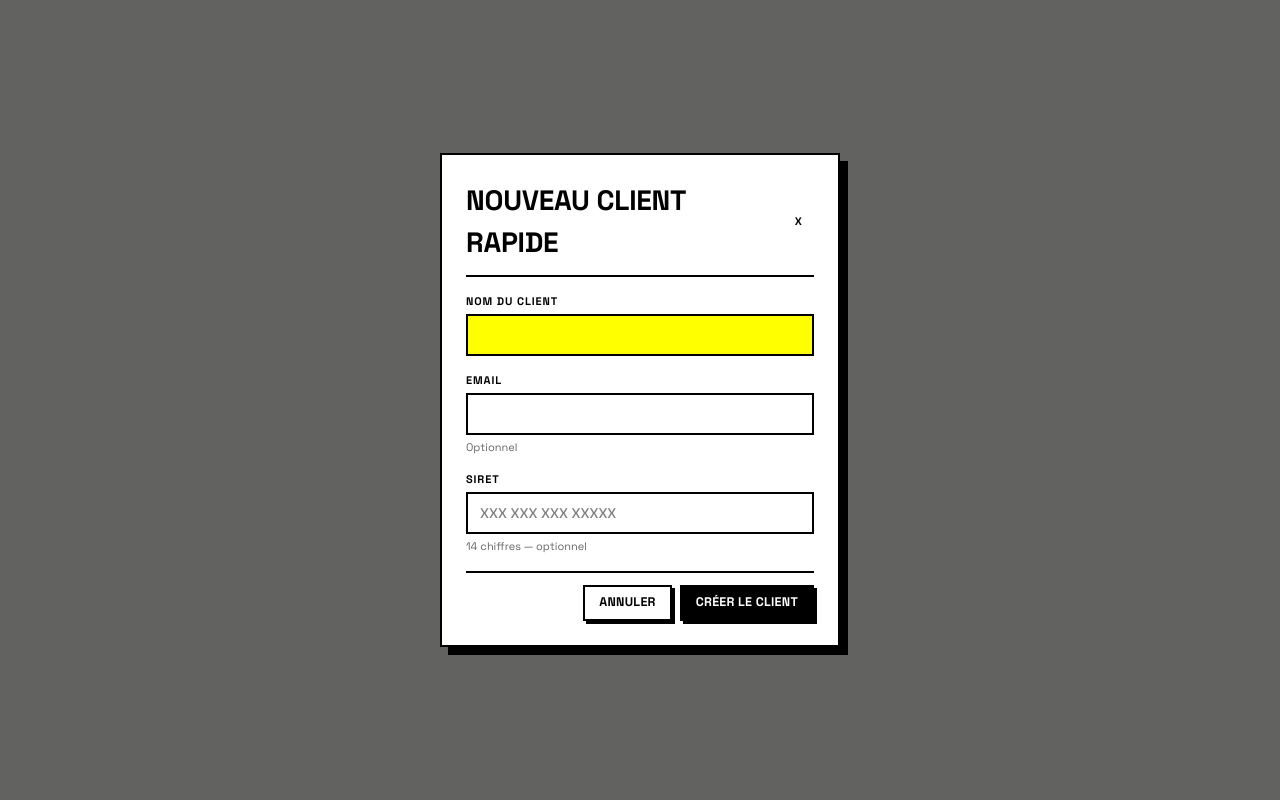
Test: QuickClientModal › affiche l'erreur quand l'API échoue
Type "Client test" into the field with test id "quick-client-name".
click(640, 335); type("Client test")  # box [466,314,814,356]
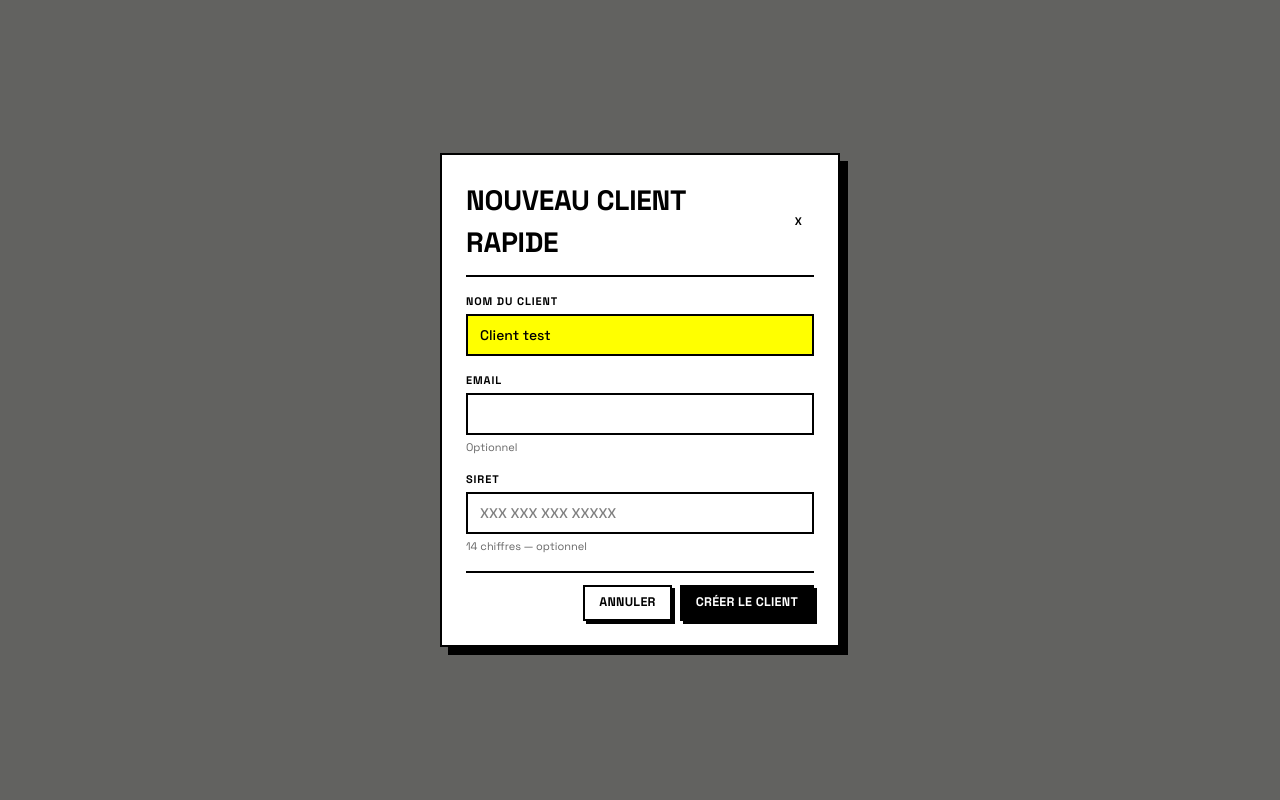
Click the button with test id "quick-client-submit".
click(747, 602)  # box [680,584,814,620]
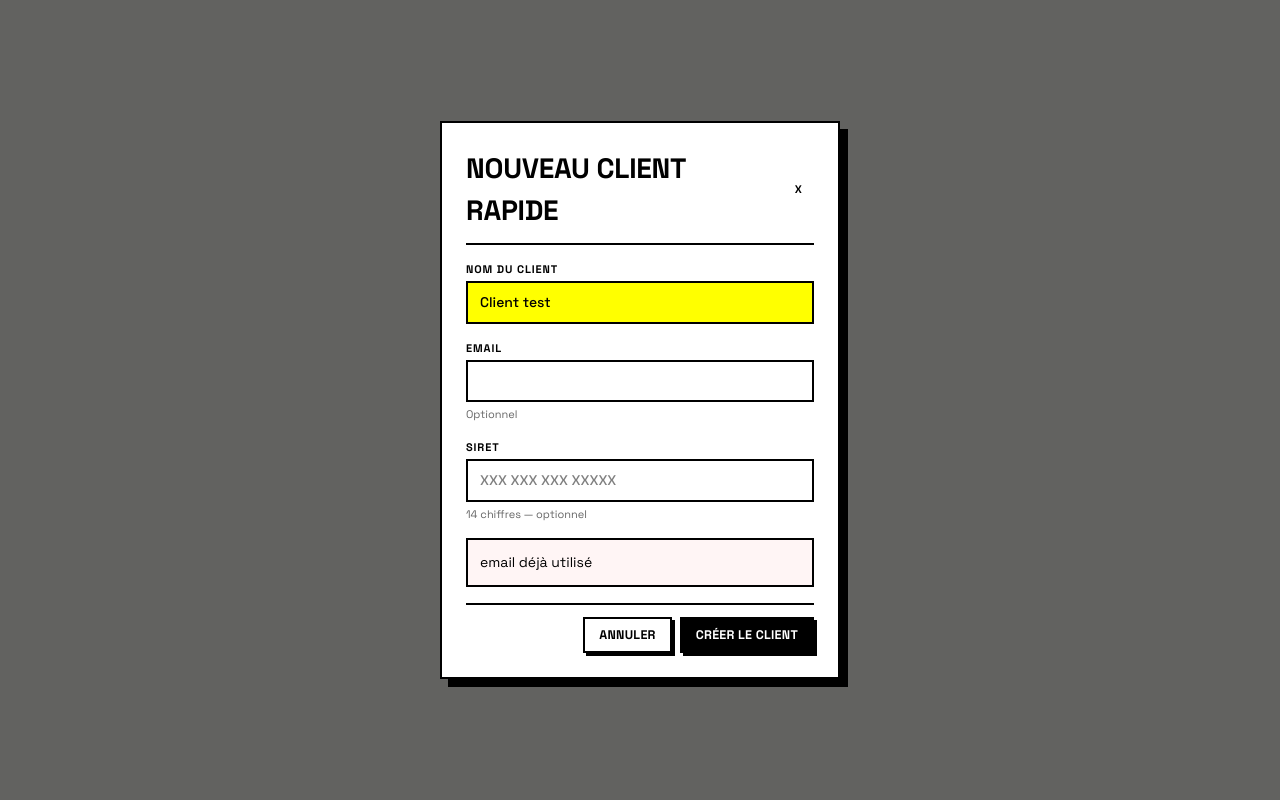
Expected: the message with test id "quick-client-error" reads "email déjà utilisé", [480,553,592,571]
